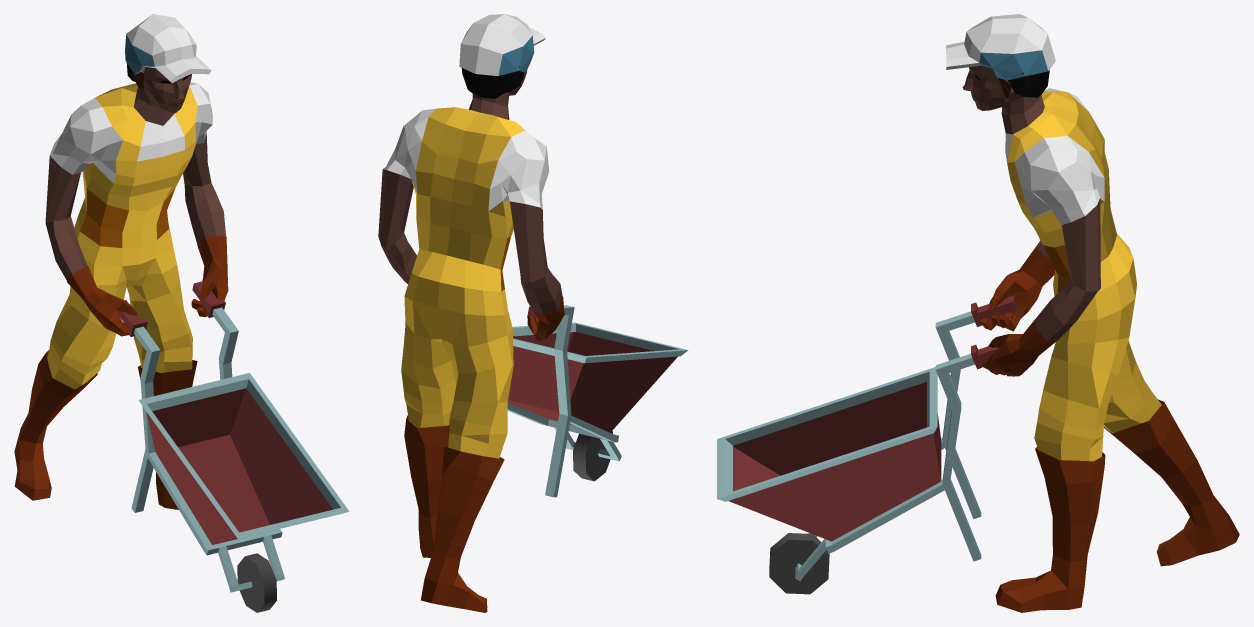
File: Male_pose_05.FBX
The picture shows the model from 3 angles, left to right: view 1: azimuth 30°, elevation 25°; view 2: azimuth 150°, elevation 25°; view 3: azimuth 270°, elevation 25°; orthographic projection. The views are drawn at different scales.
Visible parts, largest first — view 1: Male_pose_05; view 2: Male_pose_05; view 3: Male_pose_05.
Part boxes in pixels (x1,y1,x2,y2): Male_pose_05: [14, 14, 349, 612]; Male_pose_05: [378, 14, 688, 612]; Male_pose_05: [717, 14, 1239, 612].
Bounding box in the file's own units: 0.593 × 1.79 × 1.48.
Materials: 1 (1 with a texture image).
